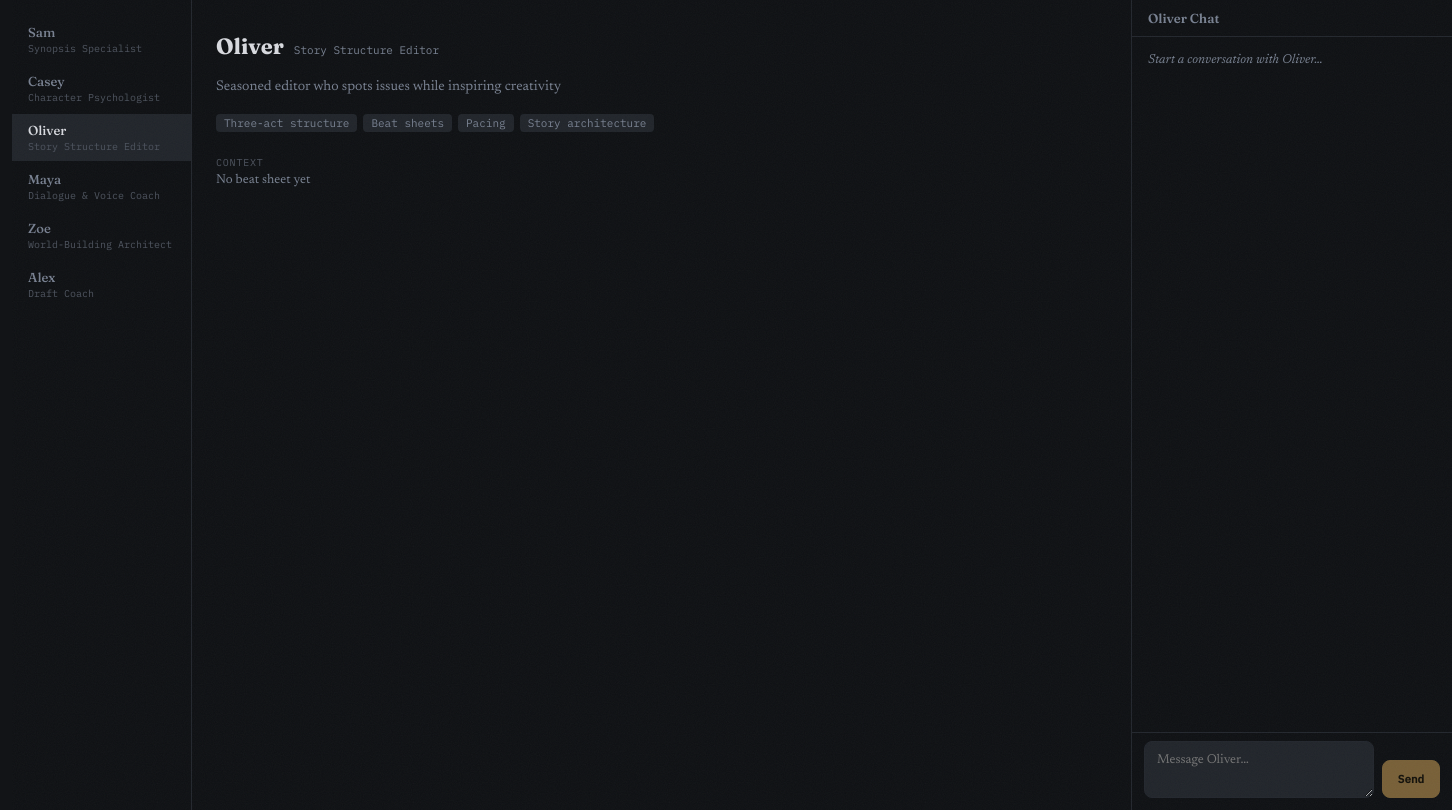
it: WritersRoom › clicking Sam changes selected workspace to Sam
Click the text "Sam": (42, 32) [28, 24, 55, 40]
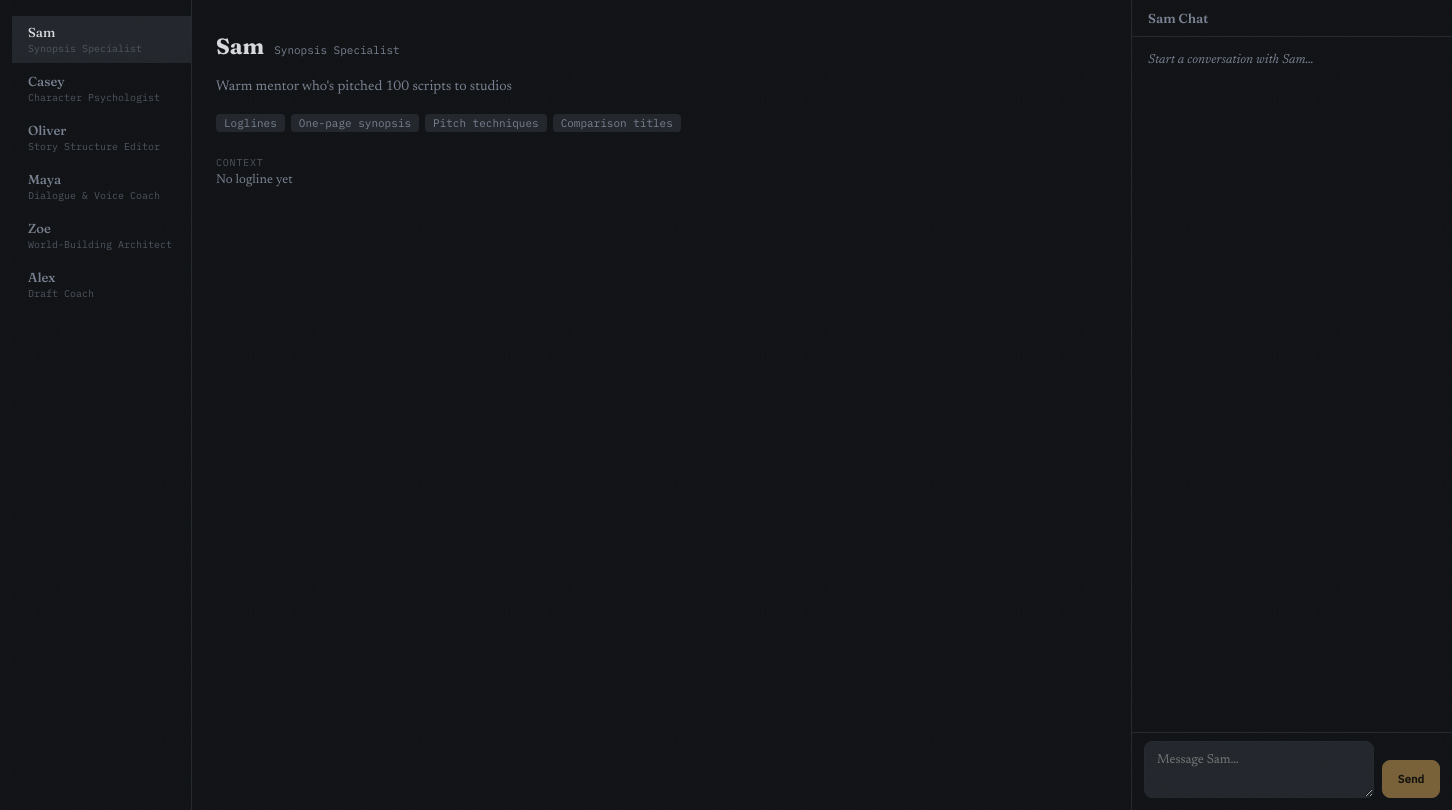
Result: the element with test id "specialist-workspace" shows "Sam" at [216, 32, 264, 60]
